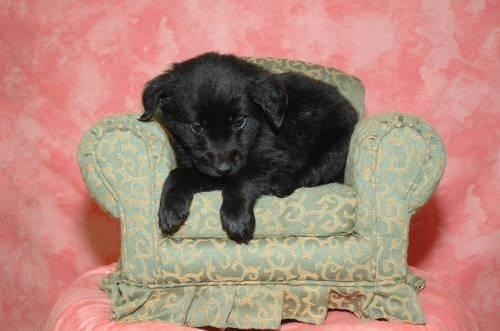dog: (139, 52, 359, 242)
